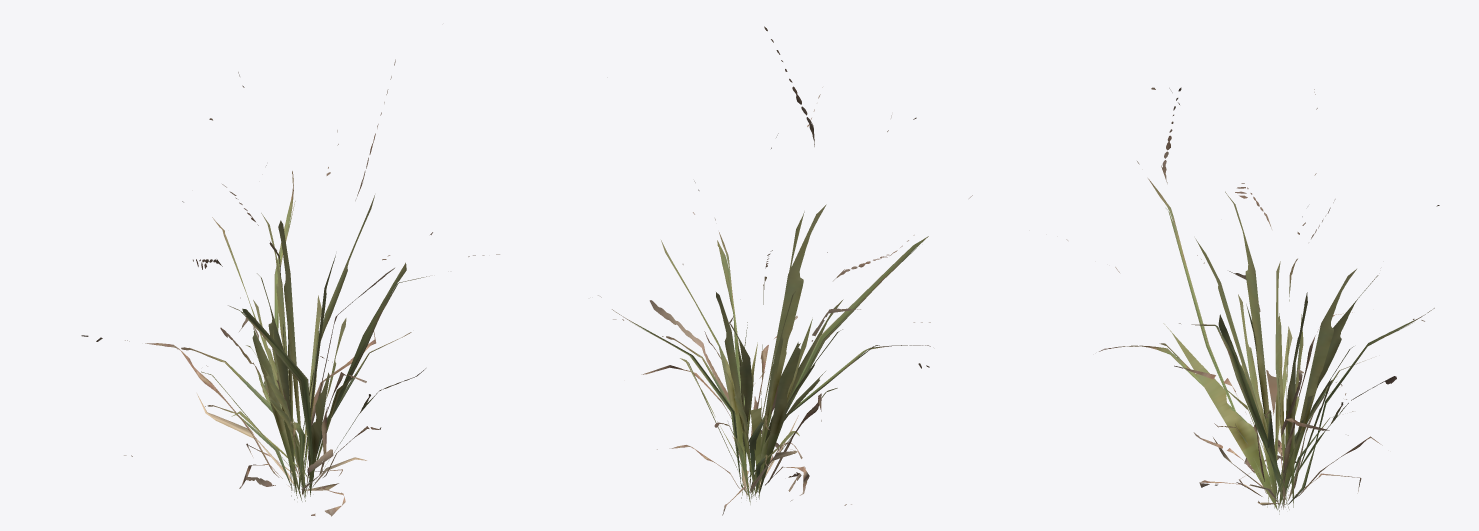
The picture shows the model from 3 angles, left to right: view 1: azimuth 30°, elevation 25°; view 2: azimuth 150°, elevation 25°; view 3: azimuth 270°, elevation 25°; orthographic projection. The views are drawn at different scales.
Parts seen in each view (by area): view 1: grass_medium_02__e_lod1; view 2: grass_medium_02__e_lod1; view 3: grass_medium_02__e_lod1.
Part boxes in pixels (bbox=[...]): grass_medium_02__e_lod1: bbox=[81, 59, 499, 516]; grass_medium_02__e_lod1: bbox=[598, 26, 972, 515]; grass_medium_02__e_lod1: bbox=[1066, 87, 1439, 514].
Bounding box in the file's own units: 0.3554 × 0.4101 × 0.3663.
Materials: 1 (1 with a texture image).
